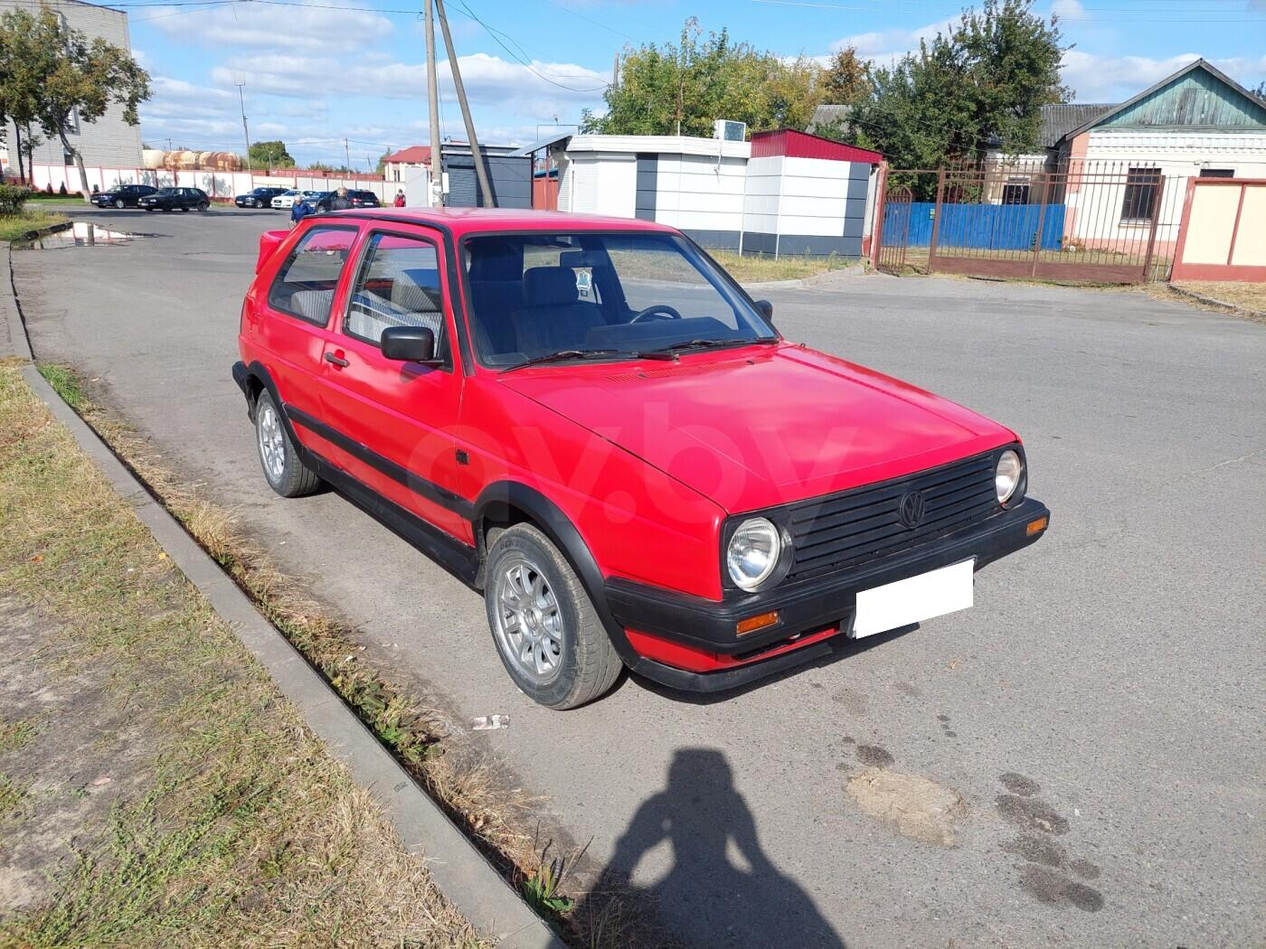Golf_1983-1992: (224, 194, 1055, 714)
